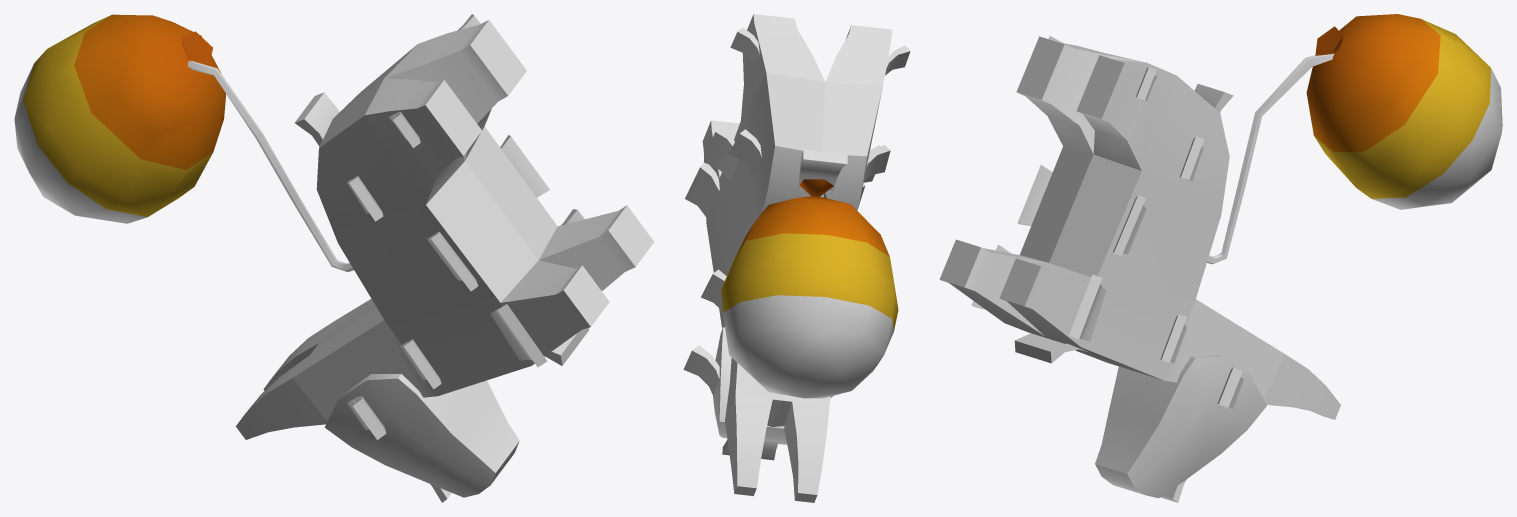
File: AnimalPinataHeld.glb
The picture shows the model from 3 angles, left to right: view 1: azimuth 30°, elevation 25°; view 2: azimuth 150°, elevation 25°; view 3: azimuth 270°, elevation 25°; orthographic projection. The views are drawn at different scales.
Visible parts, largest first — view 1: AnimalPinataHeld; view 2: AnimalPinataHeld; view 3: AnimalPinataHeld.
Part boxes in pixels (left/top/right/bottom): AnimalPinataHeld: left=14, top=14, right=654, bottom=502; AnimalPinataHeld: left=683, top=14, right=910, bottom=502; AnimalPinataHeld: left=939, top=14, right=1502, bottom=502.
Bounding box in the file's own units: 0.7541 × 0.8402 × 0.962.
